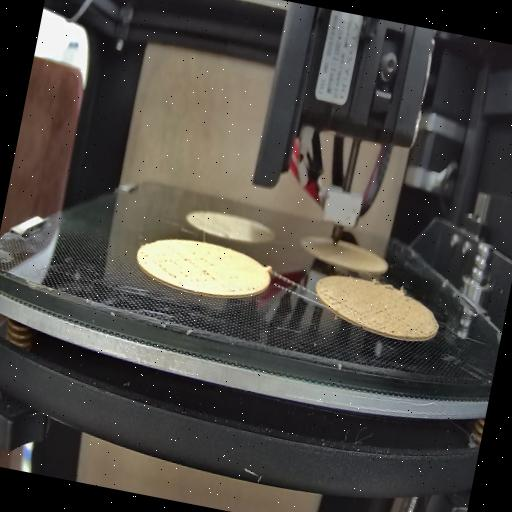under_extrusion: (158, 245, 221, 288), (370, 298, 428, 340), (320, 288, 358, 314), (227, 278, 260, 302)
